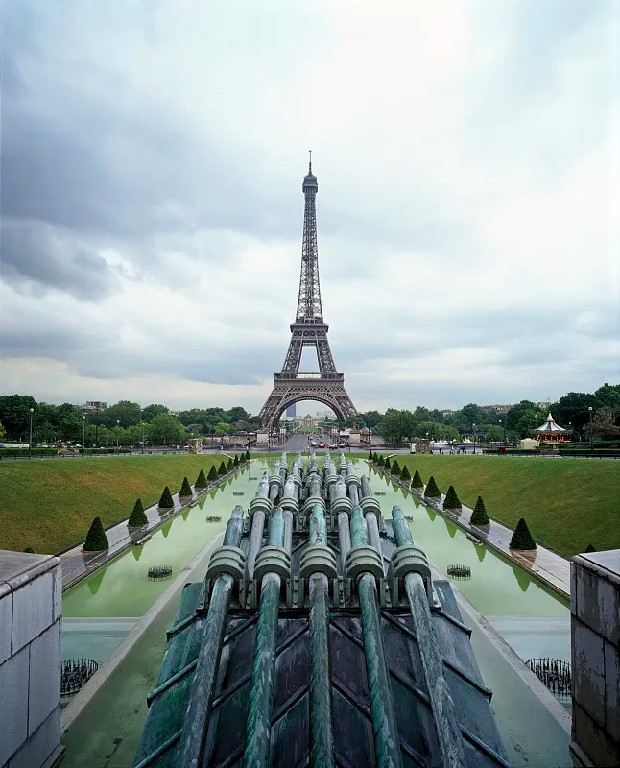Eiffel: (259, 150, 358, 432)
